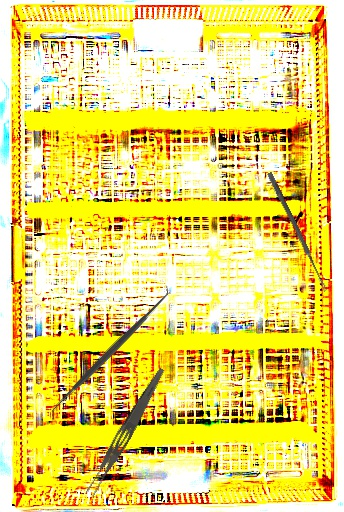Dressing Forceps: (82, 364, 168, 500)
Spatula Surgical: (40, 284, 179, 423)
Surgical Spoon: (266, 171, 329, 293)
